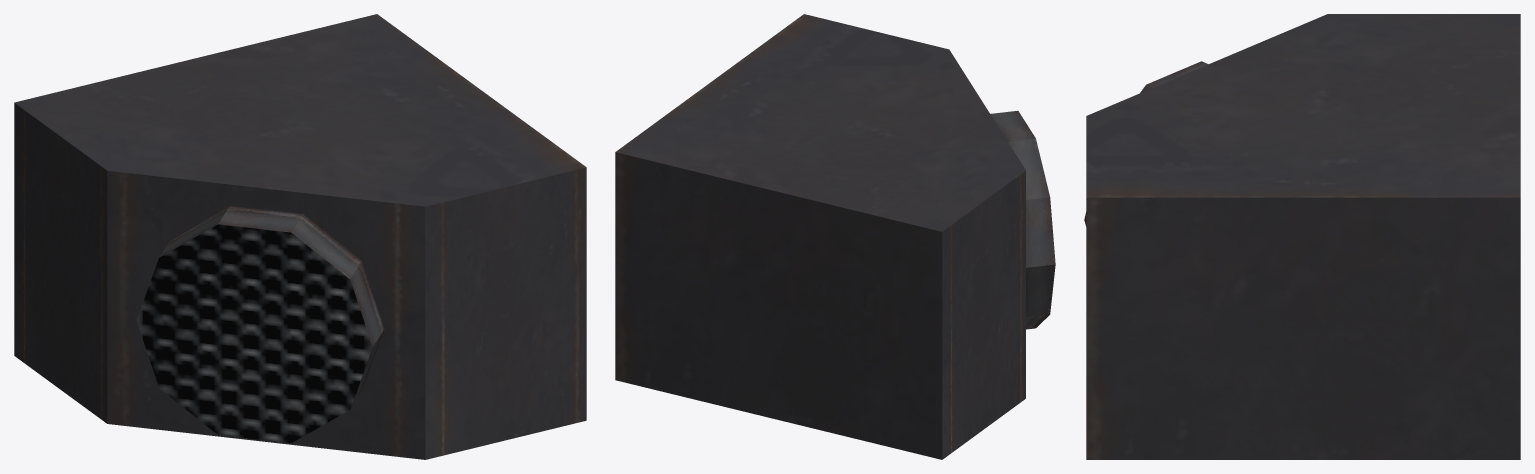
Rendered from MESH_EXTERNAL_VENTILACAO.fbx.
The picture shows the model from 3 angles, left to right: view 1: azimuth 30°, elevation 25°; view 2: azimuth 150°, elevation 25°; view 3: azimuth 270°, elevation 25°; orthographic projection. The views are drawn at different scales.
Parts seen in each view (by area): view 1: MESH_EXTERNAL_VENTILACAO; view 2: MESH_EXTERNAL_VENTILACAO; view 3: MESH_EXTERNAL_VENTILACAO.
Boxes of the visible parts, x1,y1,x2,y2 form: MESH_EXTERNAL_VENTILACAO: (14, 14, 586, 459); MESH_EXTERNAL_VENTILACAO: (615, 14, 1055, 459); MESH_EXTERNAL_VENTILACAO: (1084, 14, 1520, 459).
Bounding box in the file's own units: 1.51 × 1 × 1.51.
